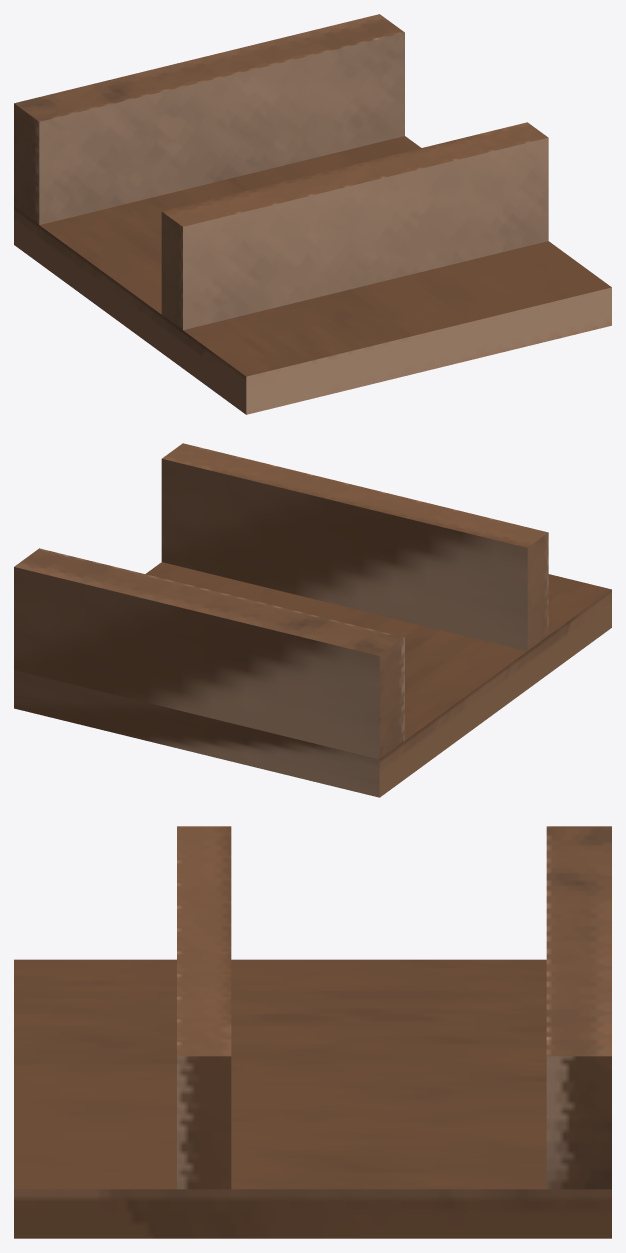
File: pz_g016_shop_wooden_shop_shelves.obj
3 renders of one model, top to bottom at view 1: azimuth 30°, elevation 25°; view 2: azimuth 150°, elevation 25°; view 3: azimuth 270°, elevation 25°, orthographic. The views are drawn at different scales.
Visible parts, largest first — view 1: physical_component_2_z+, physical_component_1_z+, physical_component_0_y+, physical_component_0_z+, physical_component_1_y+, physical_component_0_x-, physical_component_2_y+, physical_component_1_x-, physical_component_2_x-; view 2: physical_component_2_z-, physical_component_1_z-, physical_component_0_z-, physical_component_0_y+, physical_component_1_y+, physical_component_0_x-, physical_component_2_y+, physical_component_1_x-, physical_component_2_x-; view 3: physical_component_0_y+, physical_component_0_x+, physical_component_1_y+, physical_component_2_y+, physical_component_1_x+, physical_component_2_x+.
Boxes of the visible parts, x1,y1,x2,y2 form: physical_component_2_z+: [183, 138, 548, 329]; physical_component_1_z+: [39, 32, 404, 224]; physical_component_0_y+: [39, 136, 611, 376]; physical_component_0_z+: [246, 287, 611, 414]; physical_component_1_y+: [14, 14, 404, 121]; physical_component_0_x-: [14, 207, 246, 414]; physical_component_2_y+: [162, 122, 548, 226]; physical_component_1_x-: [14, 103, 39, 224]; physical_component_2_x-: [161, 212, 182, 329]; physical_component_2_z-: [161, 459, 527, 651]; physical_component_1_z-: [14, 567, 379, 759]; physical_component_0_z-: [14, 670, 379, 797]; physical_component_0_y+: [145, 562, 611, 740]; physical_component_1_y+: [14, 548, 404, 655]; physical_component_0_x-: [379, 589, 611, 797]; physical_component_2_y+: [162, 443, 548, 547]; physical_component_1_x-: [379, 638, 404, 758]; physical_component_2_x-: [527, 533, 548, 650]; physical_component_0_y+: [14, 959, 546, 1189]; physical_component_0_x+: [14, 1189, 611, 1238]; physical_component_1_y+: [546, 826, 611, 1056]; physical_component_2_y+: [177, 826, 231, 1056]; physical_component_1_x+: [546, 1056, 611, 1189]; physical_component_2_x+: [177, 1056, 231, 1189].
Size of the model in its own units: 1 by 0.37 by 1.1.
Materials: 1 (1 with a texture image).
